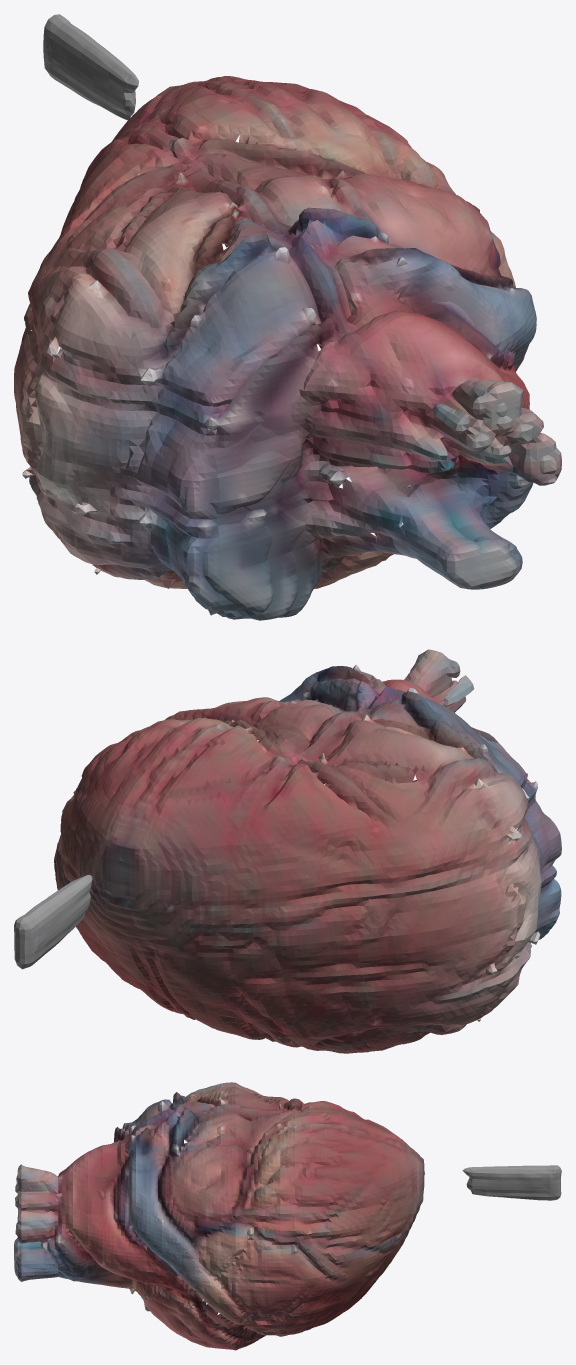
The picture shows the model from 3 angles, top to bottom: view 1: azimuth 30°, elevation 25°; view 2: azimuth 150°, elevation 25°; view 3: azimuth 270°, elevation 25°; orthographic projection. The views are drawn at different scales.
Visible parts, largest first — view 1: world; view 2: world; view 3: world.
Part boxes in pixels (x1,y1,x2,y2): world: (14,14,561,620); world: (14,649,561,1053); world: (14,1082,561,1350).
Size of the model in its own units: 0.5976 by 0.4685 by 1.01.
